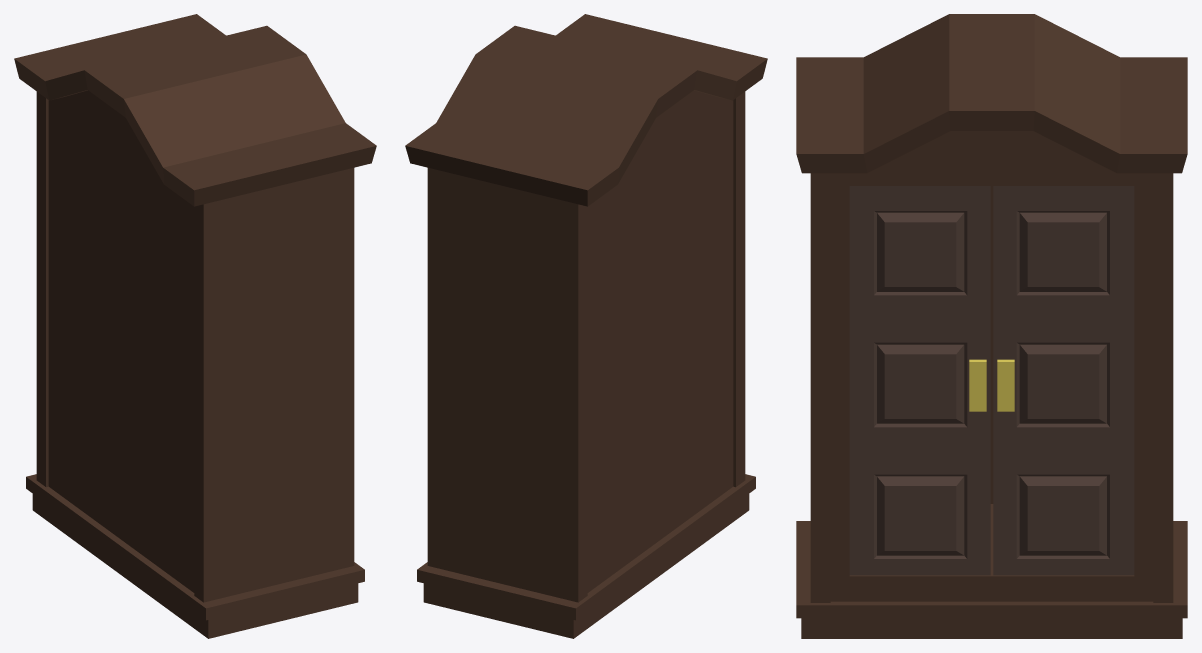
The model's file is lemari_lowpoly_.fbx.
3 renders of one model, left to right at view 1: azimuth 30°, elevation 25°; view 2: azimuth 150°, elevation 25°; view 3: azimuth 270°, elevation 25°, orthographic. The views are drawn at different scales.
Visible parts, largest first — view 1: Cube.001; view 2: Cube.001; view 3: Cube.001, Cube.004, Cube.005.
Part boxes in pixels (left/top/right/bottom): Cube.001: left=14, top=14, right=376, bottom=638; Cube.001: left=405, top=14, right=767, bottom=638; Cube.001: left=796, top=14, right=1187, bottom=638; Cube.004: left=849, top=186, right=990, bottom=575; Cube.005: left=993, top=186, right=1134, bottom=575.
Size of the model in its own units: 251 by 650 by 429.
